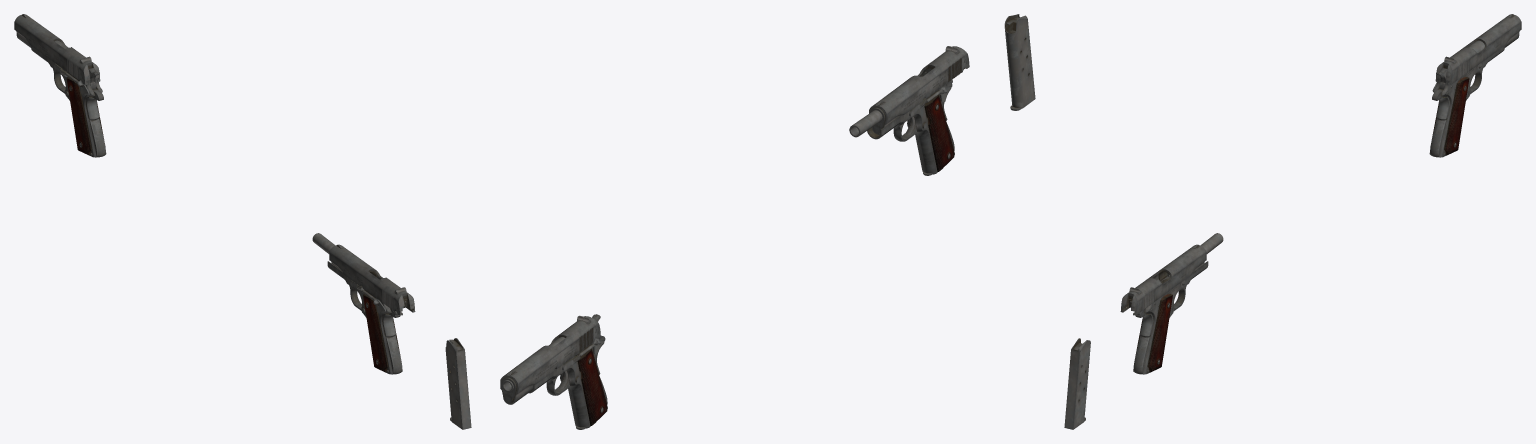
File: colt-m1911.glb
3 renders of one model, left to right at view 1: azimuth 30°, elevation 25°; view 2: azimuth 150°, elevation 25°; view 3: azimuth 330°, elevation 25°, orthographic. The views are drawn at different scales.
Visible parts, largest first — view 1: slide_low.002, slide_low.001, magazine_empty, grips_low.001, grips_low.002, base_low.001, base_low.002; view 2: slide_low.001, slide_low.002, magazine_empty, base_low.002, base_low.001, grips_low.002, grips_low.001; view 3: slide_low.002, slide_low.001, magazine_empty, grips_low.001, grips_low.002, base_low.001, base_low.002.
Boxes of the visible parts, <box> form: slide_low.002: <box>329,245,415,315</box>; slide_low.001: <box>14,14,100,84</box>; magazine_empty: <box>445,338,471,429</box>; grips_low.001: <box>66,77,105,155</box>; grips_low.002: <box>363,294,400,372</box>; base_low.001: <box>31,45,106,157</box>; base_low.002: <box>327,261,402,374</box>; slide_low.001: <box>500,316,600,404</box>; slide_low.002: <box>869,46,969,134</box>; magazine_empty: <box>1004,14,1035,110</box>; base_low.002: <box>867,84,954,174</box>; base_low.001: <box>528,338,607,428</box>; grips_low.002: <box>924,95,954,171</box>; grips_low.001: <box>577,349,607,425</box>; slide_low.002: <box>1120,245,1206,315</box>; slide_low.001: <box>1435,14,1521,84</box>; magazine_empty: <box>1064,338,1090,429</box>; grips_low.001: <box>1430,77,1469,155</box>; grips_low.002: <box>1135,294,1172,372</box>; base_low.001: <box>1429,45,1504,157</box>; base_low.002: <box>1133,261,1208,374</box>.
Size of the model in its own units: 0.0326 by 0.132 by 1.15.
2 materials, 2 textured.
